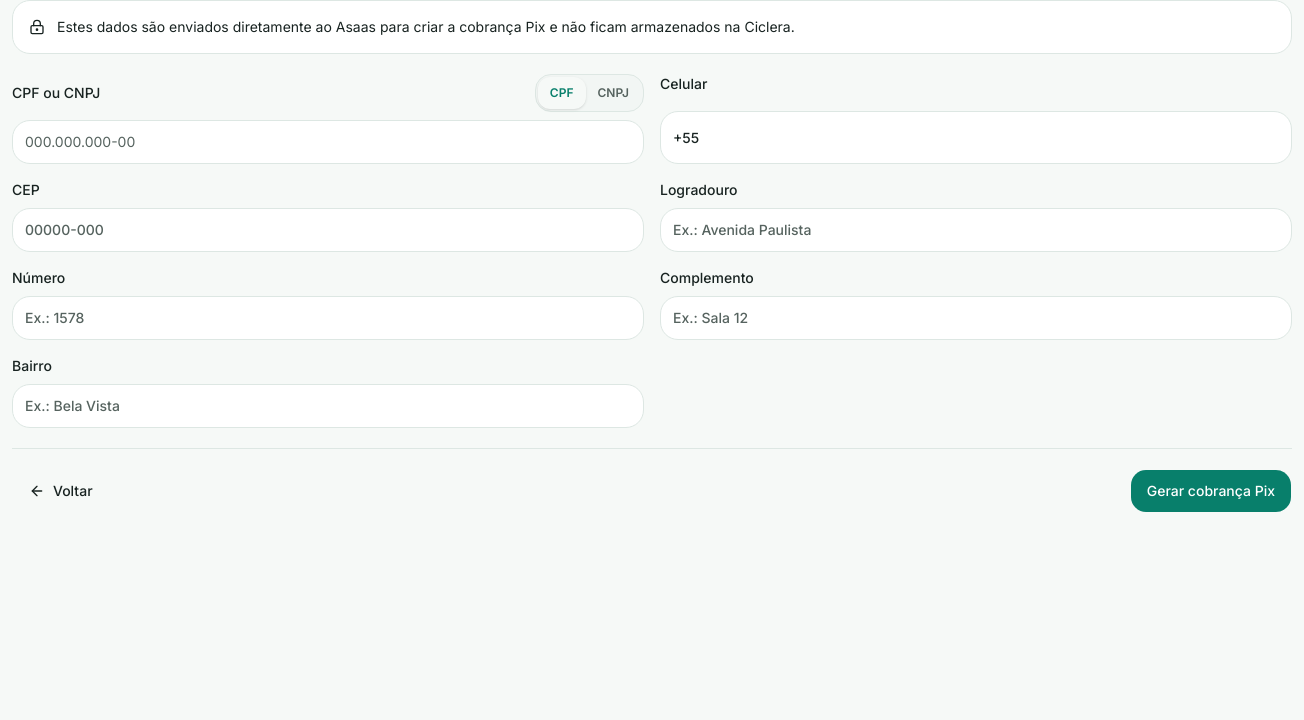
Test: Pix billing profile › does not submit incomplete Pix billing data
The width and height of the screenshot is (1304, 720).
Click the button "Gerar cobrança Pix". click: (1211, 491)
box: top-left (1130, 469), bottom-right (1292, 513)
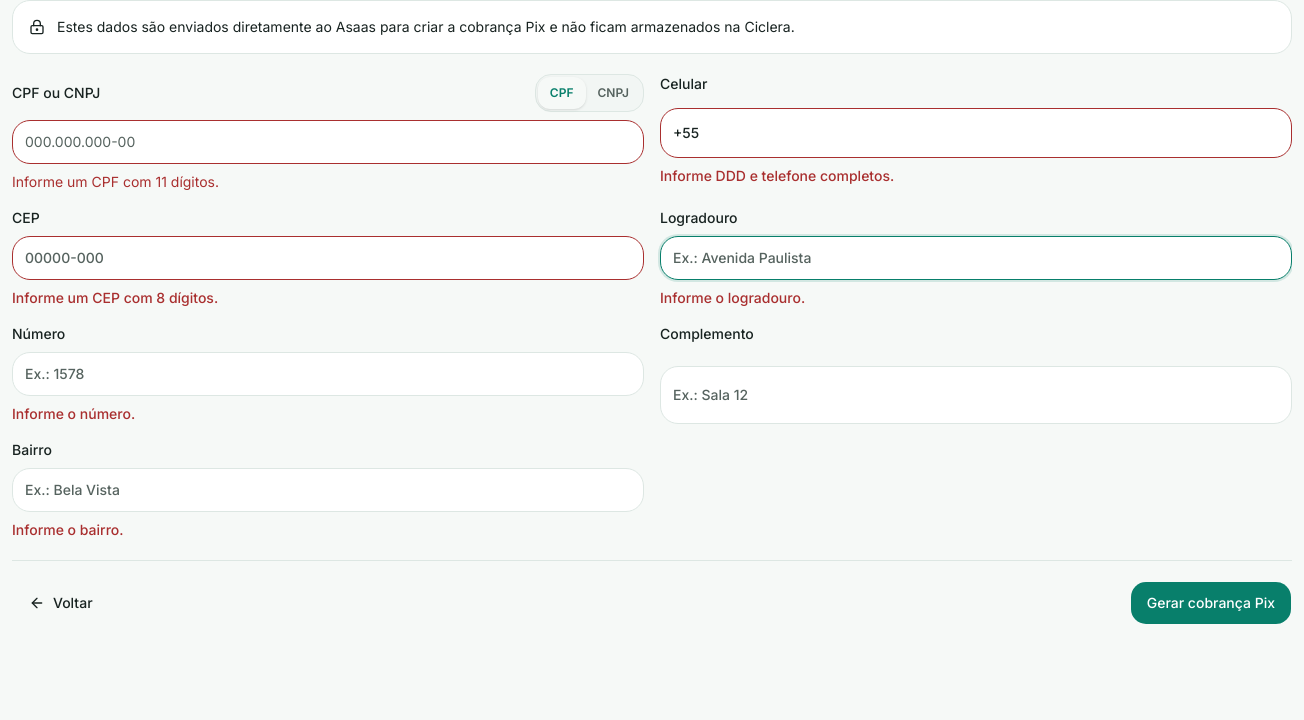
Now the text "Informe um CPF com 11 dígitos." is shown, box top-left (12, 173), bottom-right (219, 190)
